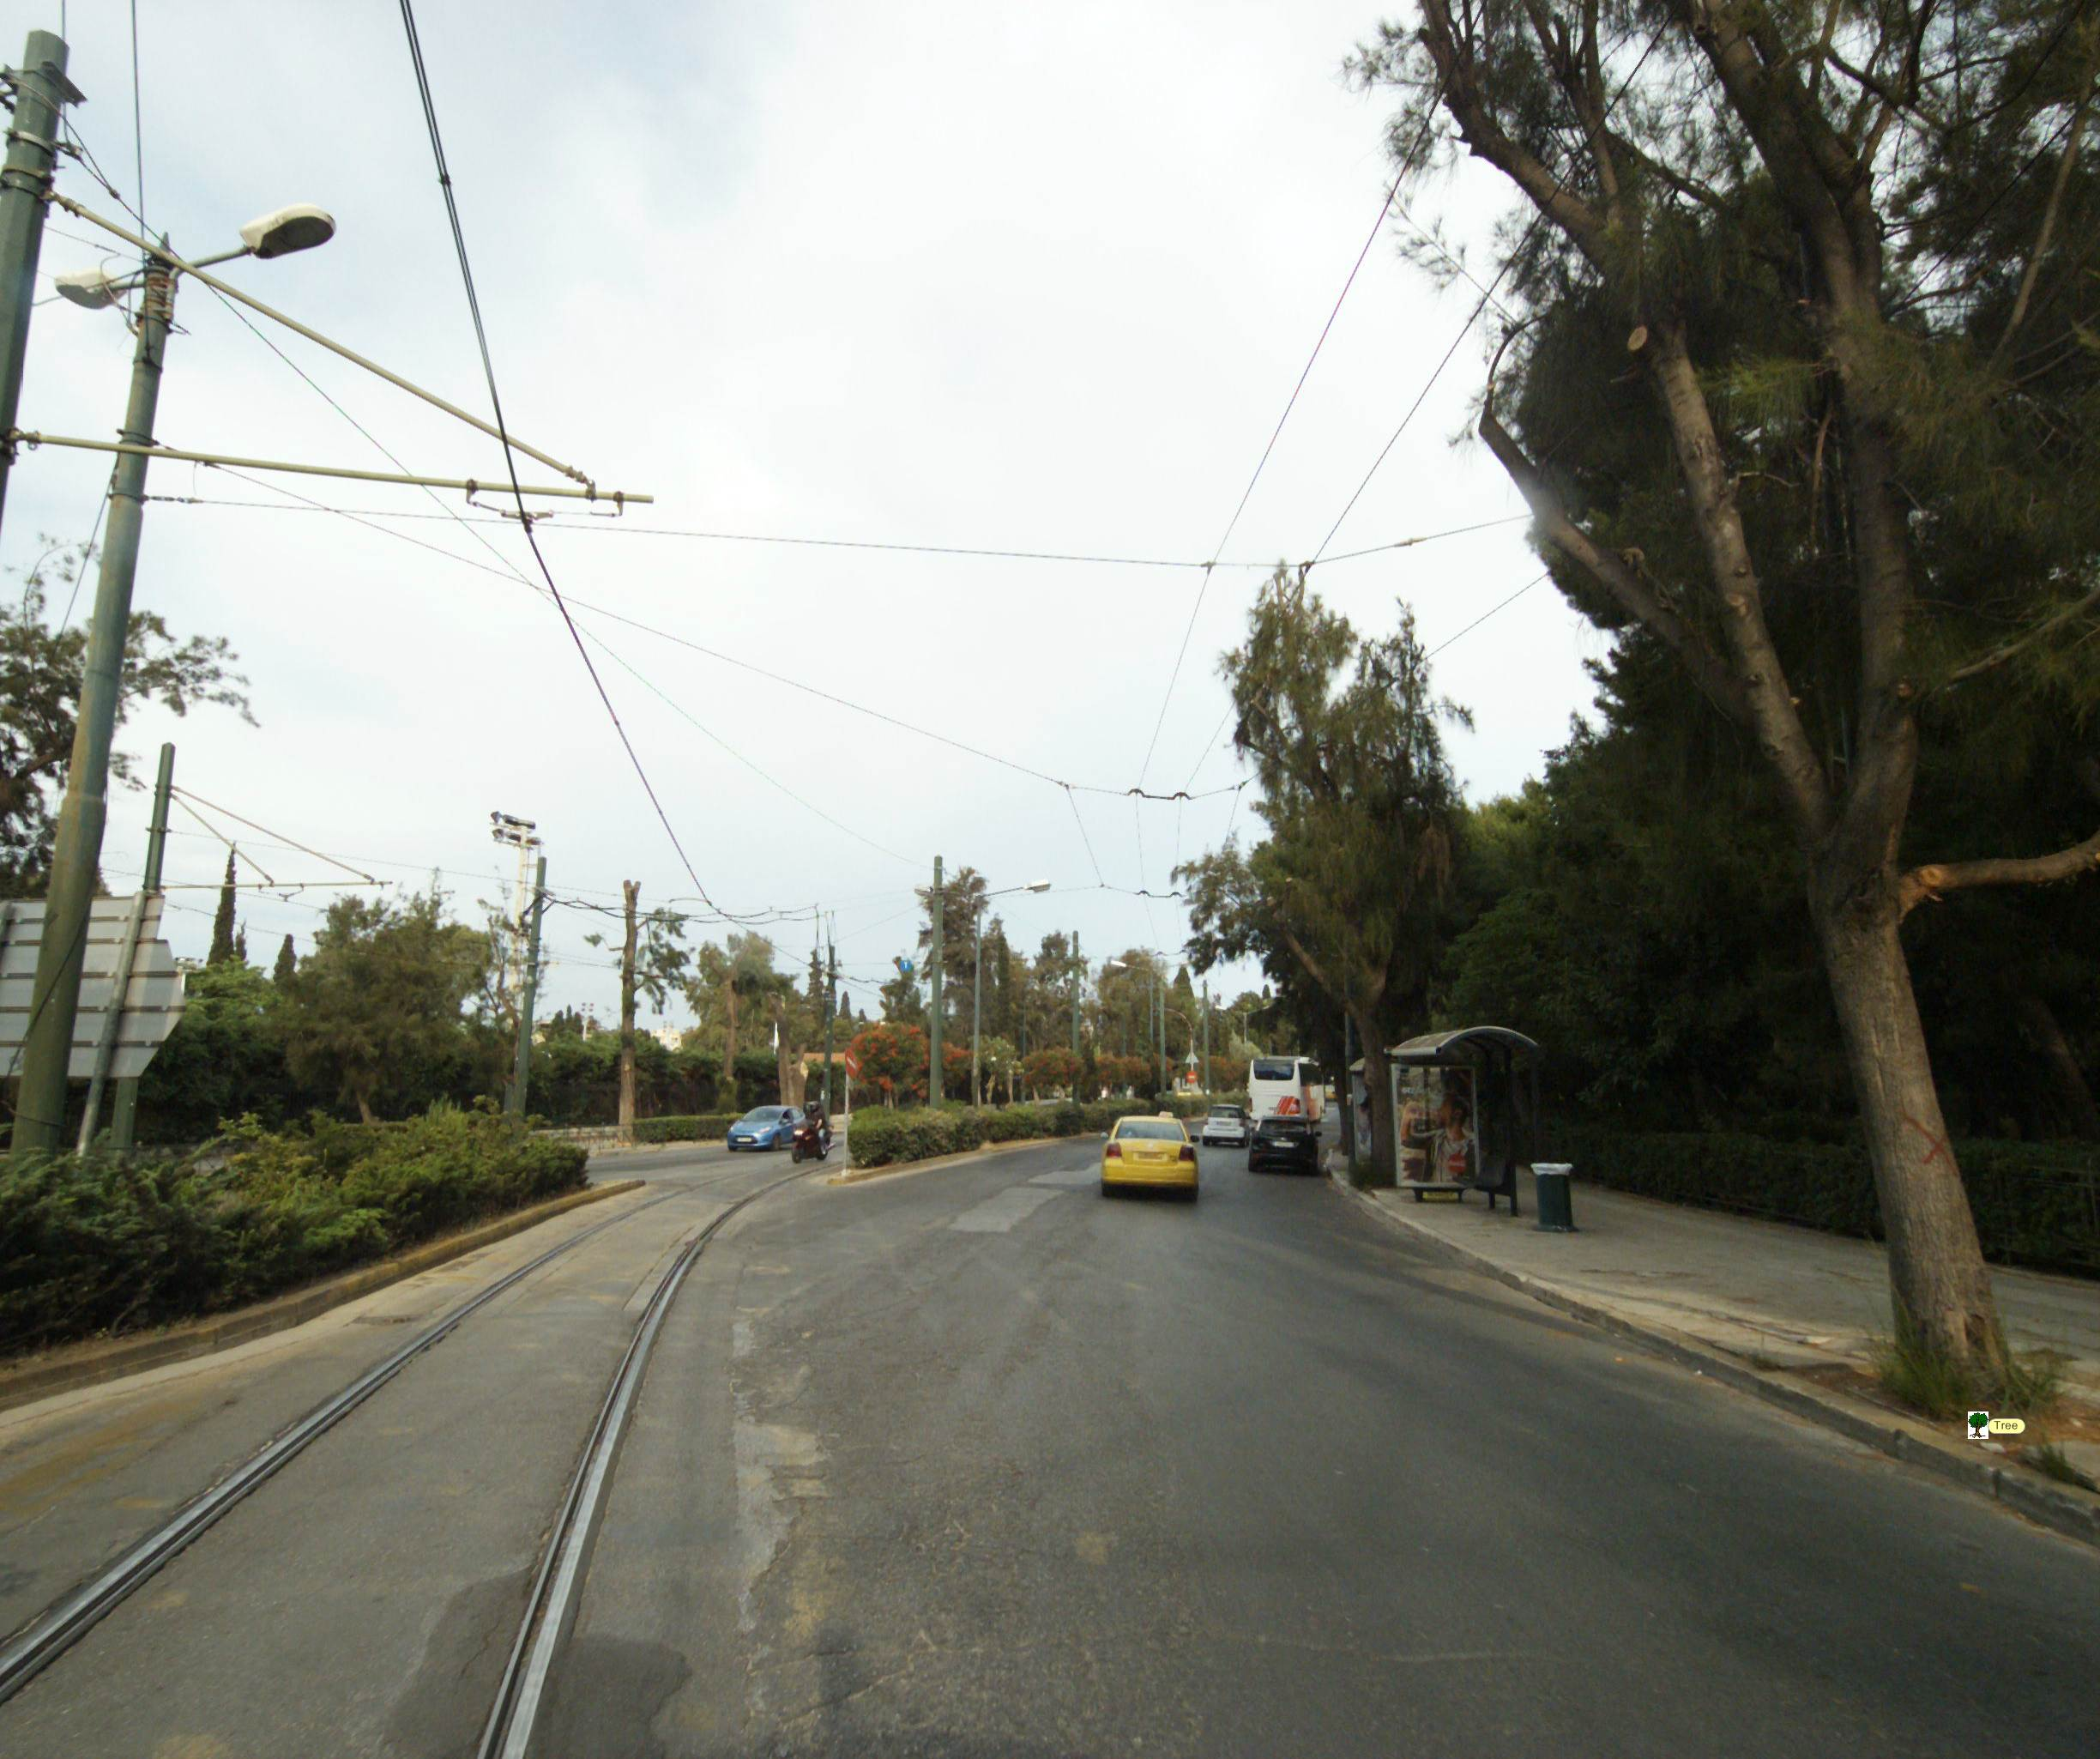tree: (1397, 5, 2100, 1461)
